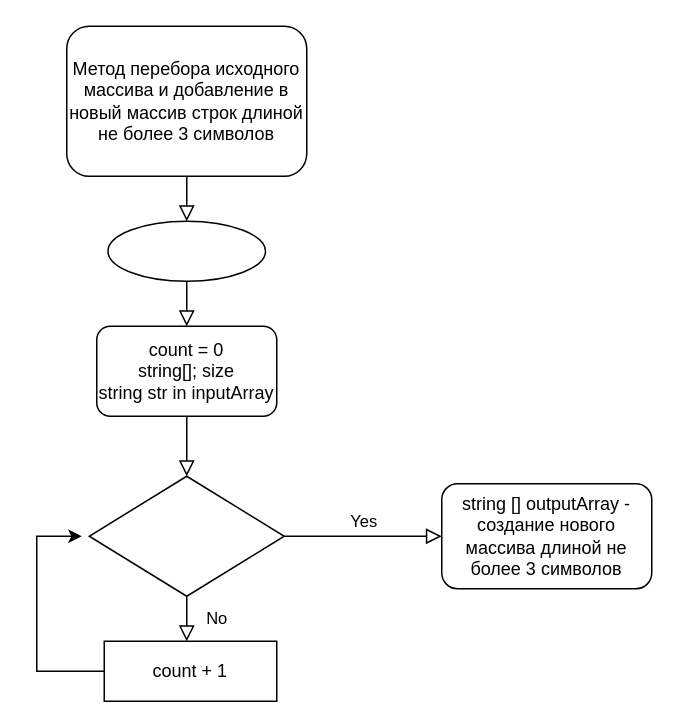
The diagram is 678 pixels wide and 728 high, and some of its shapes have lost their labels. The shapes that lost their labels are listed below. From the top down, each one's centre as x and y in pixels, then its label:
the point at 186,250: старт
the point at 186,535: str.Length <= 4 ?
